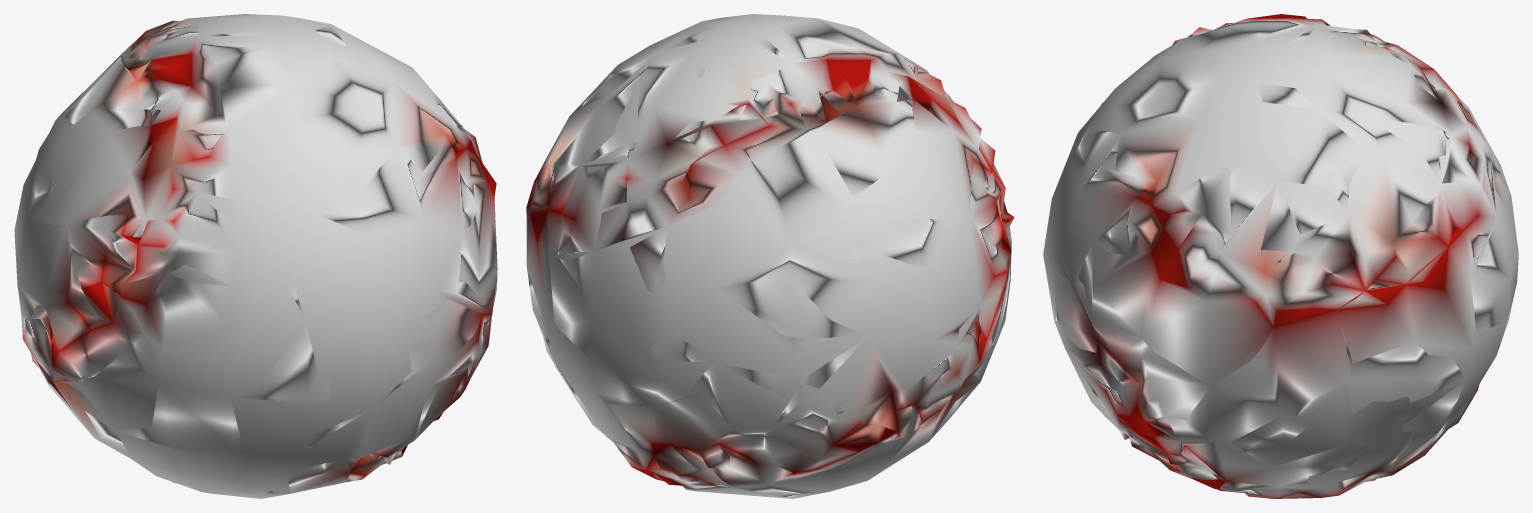
The model's file is gen3d-baseball-lod1.glb.
3 renders of one model, left to right at view 1: azimuth 30°, elevation 25°; view 2: azimuth 150°, elevation 25°; view 3: azimuth 270°, elevation 25°, orthographic. The views are drawn at different scales.
Visible parts, largest first — view 1: part_0; view 2: part_0; view 3: part_0.
Boxes of the visible parts, x1=… form: part_0: x1=14, y1=14, x2=497, y2=498; part_0: x1=526, y1=14, x2=1014, y2=498; part_0: x1=1043, y1=14, x2=1518, y2=498.
Size of the model in its own units: 0.9994 by 0.9964 by 0.9993.
